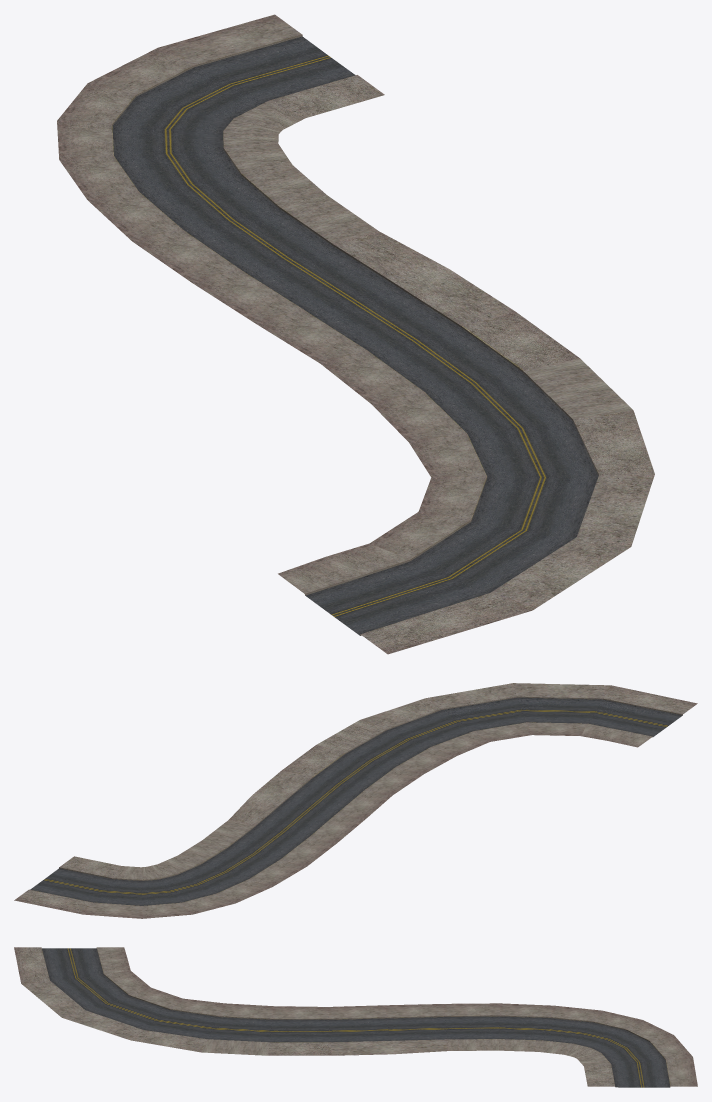
The model's file is lae2_roads77.obj.
3 views of the same model, one above another, from view 1: azimuth 30°, elevation 25°; view 2: azimuth 150°, elevation 25°; view 3: azimuth 270°, elevation 25° (orthographic). The views are drawn at different scales.
Parts seen in each view (by area): view 1: Lae2_roads77; view 2: Lae2_roads77; view 3: Lae2_roads77.
Boxes of the visible parts, box(x1,y1,x2,y2) form: Lae2_roads77: box(57, 14, 654, 654); Lae2_roads77: box(14, 683, 697, 918); Lae2_roads77: box(14, 947, 697, 1087).
Bounding box in the file's own units: 59.83 × 0.3668 × 124.
